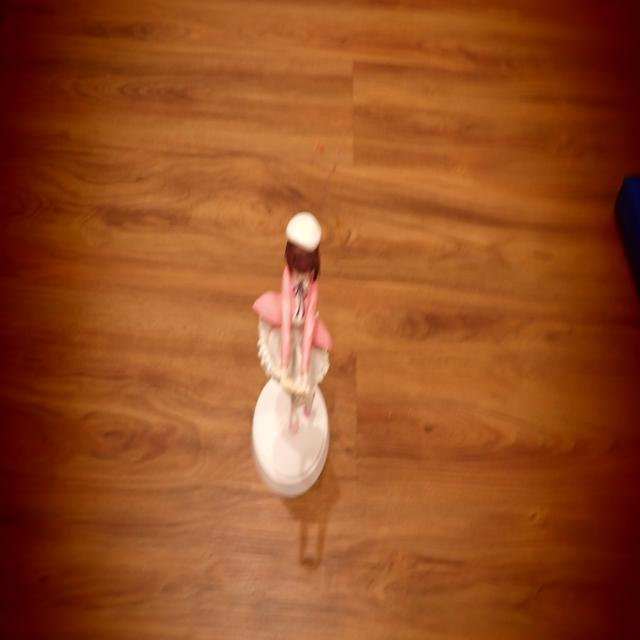My-pink-anime-figure: (254, 212, 331, 433)
